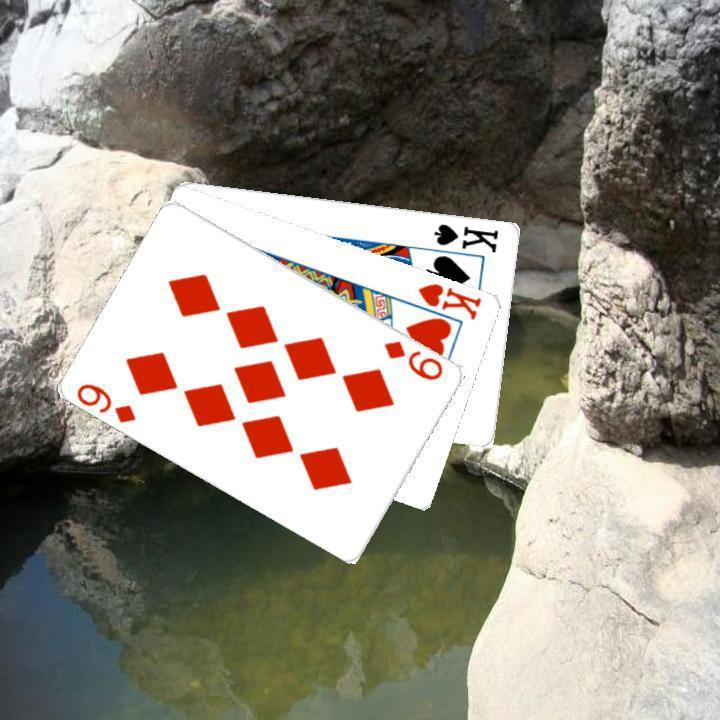9: (72, 378, 139, 425), (380, 336, 446, 383)
K: (414, 278, 484, 322), (430, 218, 501, 254)
